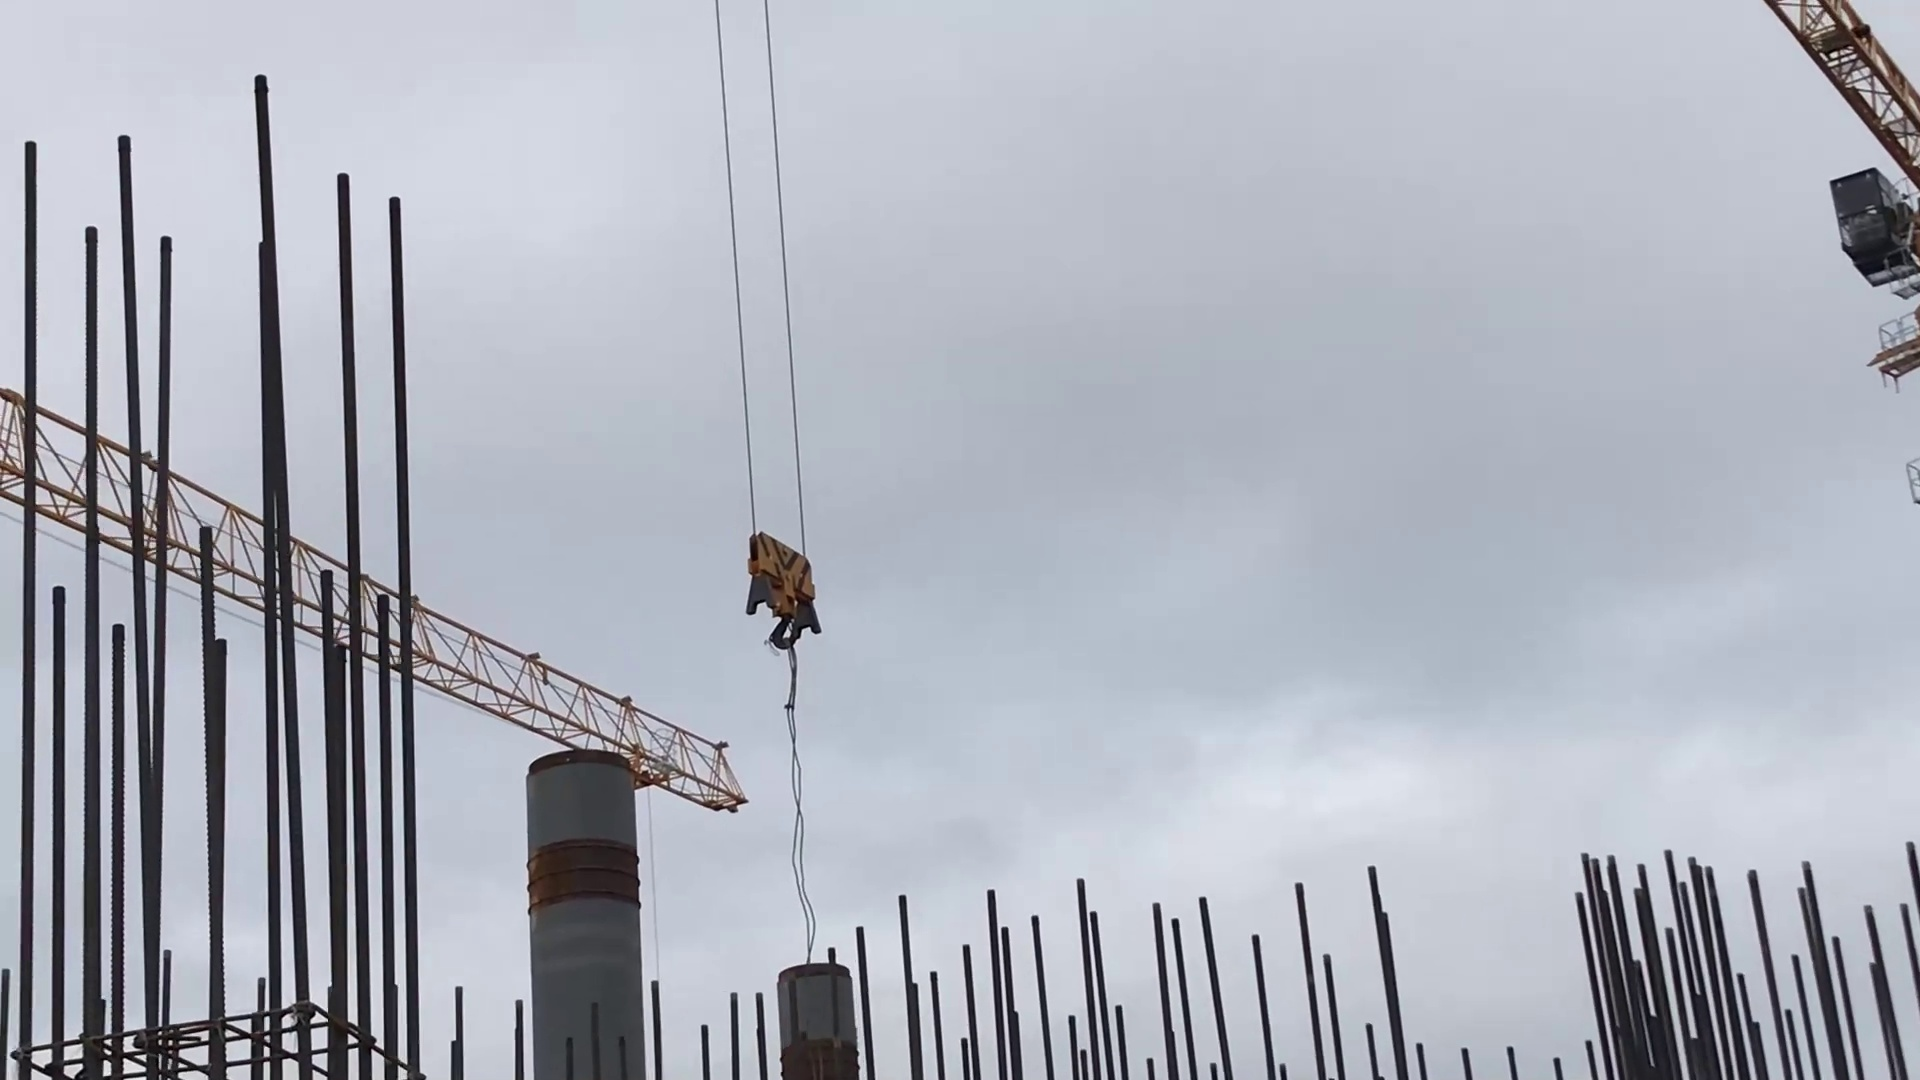hook: (729, 520, 855, 666)
